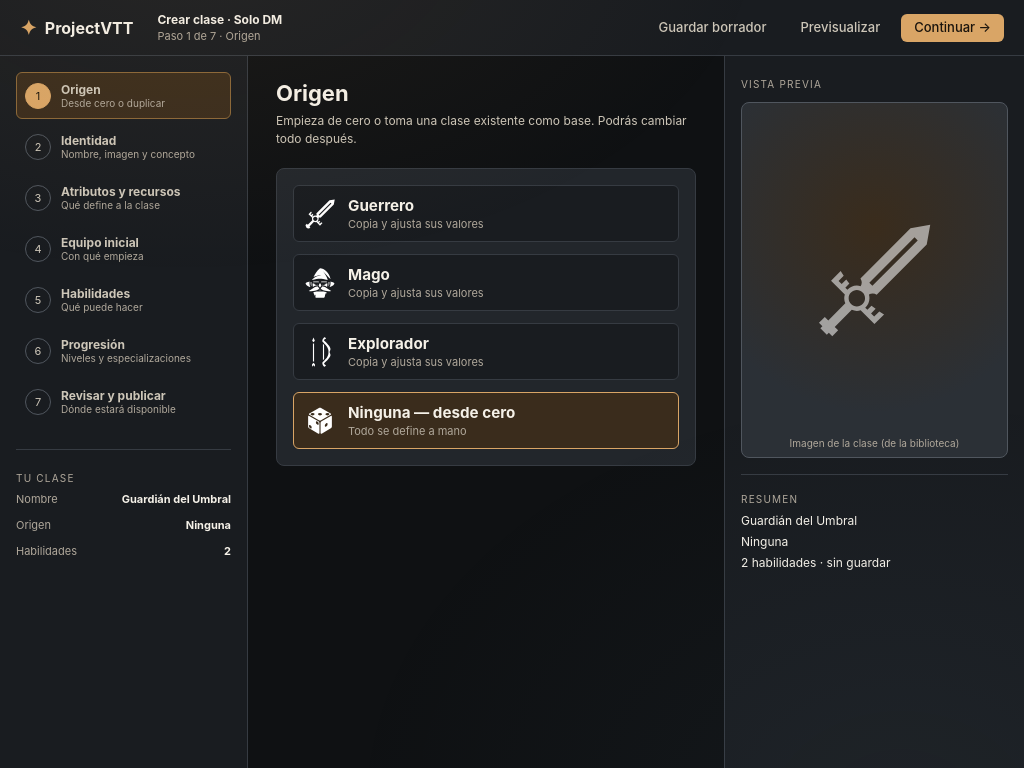
Test: Prototipo EXP-3 — creador de clases homebrew › distingue efectos automáticos de resolución manual
The image size is (1024, 768).
What coordinates should you click on to do the following:
click the button "5 Habilidades Qué puede hacer"
I would click on:
 (124, 300)
Its box is [16,276,231,323].
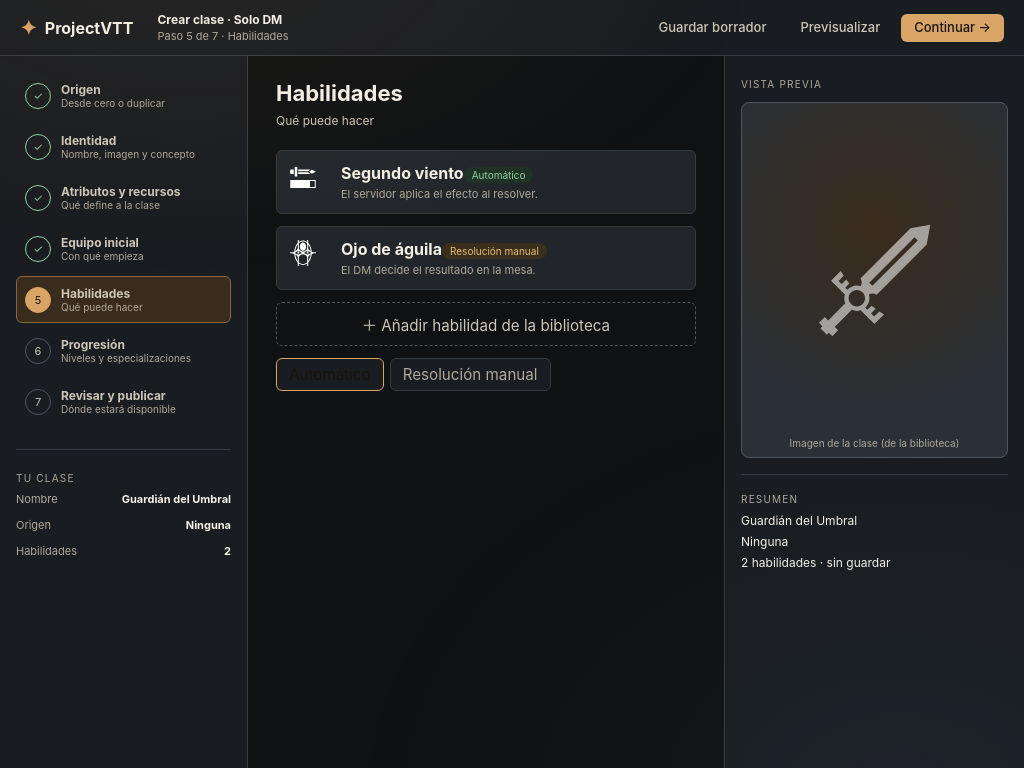
Now the text "Automático" is shown, box [464,167,534,183]
Now the text "Resolución manual" is shown, box [442,243,547,259]
